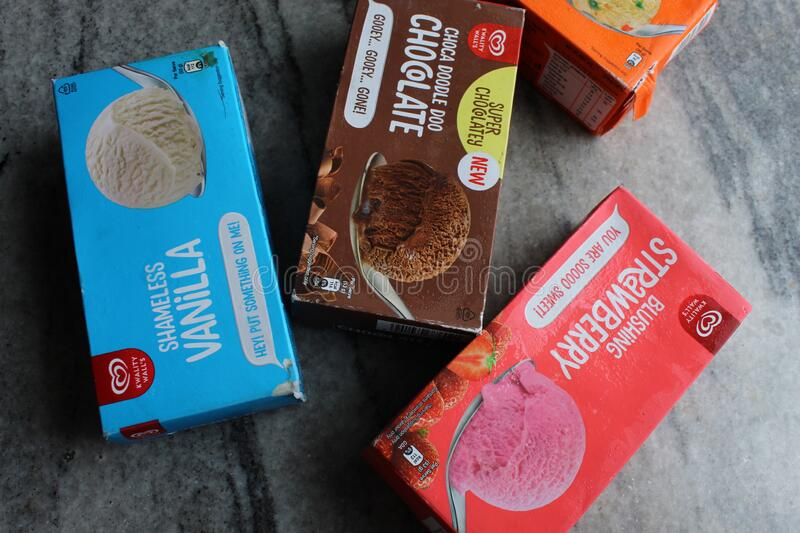Kwality_Walls: (681, 293, 731, 353), (461, 22, 529, 66), (101, 348, 140, 402)
